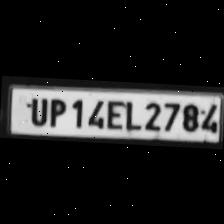1: (65, 96, 85, 128)
2: (139, 98, 164, 132)
4: (83, 95, 105, 129), (198, 99, 220, 133)
7: (158, 98, 180, 132)
8: (178, 99, 200, 133)
E: (102, 96, 125, 130)
L: (122, 97, 140, 131)
P: (44, 95, 68, 127)
U: (22, 94, 48, 126)
